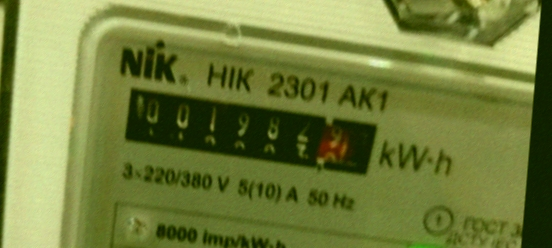0: (173, 100, 193, 131), (144, 95, 162, 125)
1: (205, 103, 219, 133)
2: (295, 114, 315, 144)
8: (265, 112, 283, 141)
9: (325, 122, 347, 152), (234, 108, 251, 139)
screen: (106, 72, 394, 191)
